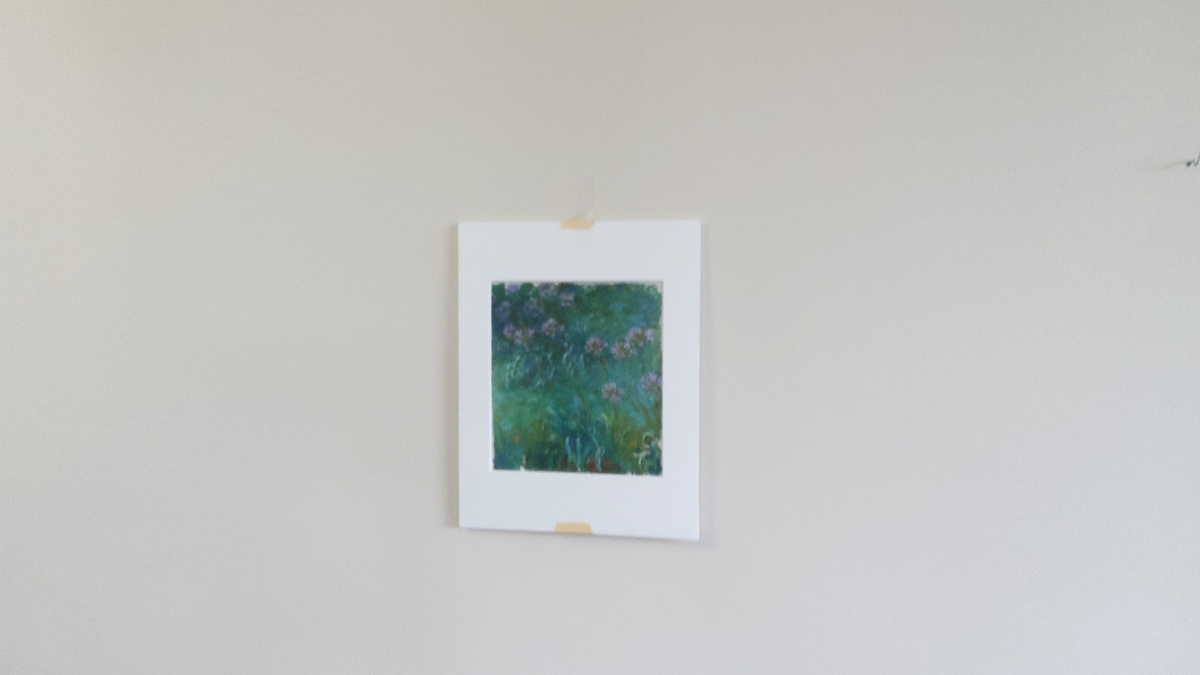painting: (482, 265, 667, 484)
